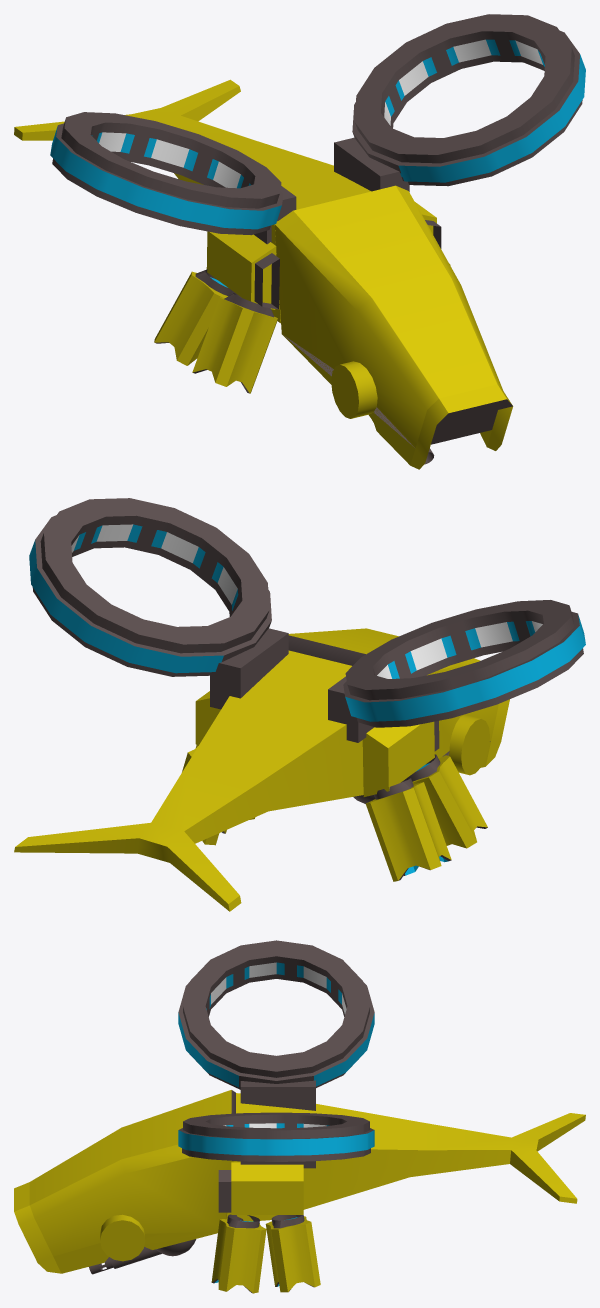
File: Drone.fbx
3 renders of one model, top to bottom at view 1: azimuth 30°, elevation 25°; view 2: azimuth 150°, elevation 25°; view 3: azimuth 270°, elevation 25°, orthographic. The views are drawn at different scales.
Parts seen in each view (by area): view 1: Cube, Tube_1, Tube, Cube_1, Cylinder_3, Cube_3, Cylinder_2, Cube_2_2, Cylinder_2_2; view 2: Cube_1, Tube_1, Tube, Cylinder_2, Cube, Cube_3, Cylinder_3, Cube_2_2, Cylinder_2_2, Cube_1_2, Cube_2; view 3: Cube, Tube, Cube_1, Tube_1, Cube_2, Cylinder, Cylinder_1, Cube_1_2, Cylinder_2_2, Cylinder_1_2.
Part boxes in pixels (box(x1,y1,x2,y2)): Cube: box(275, 185, 513, 469); Tube_1: box(352, 14, 585, 186); Tube: box(50, 112, 283, 235); Cube_1: box(14, 79, 370, 323); Cylinder_3: box(192, 293, 277, 393); Cube_3: box(206, 231, 279, 309); Cylinder_2: box(154, 269, 235, 365); Cube_2_2: box(334, 137, 409, 191); Cylinder_2_2: box(331, 361, 377, 418); Cube_1: box(14, 650, 363, 911); Tube_1: box(29, 498, 271, 676); Tube: box(343, 600, 585, 727); Cylinder_2: box(366, 778, 451, 881); Cube: box(288, 628, 509, 767); Cube_3: box(362, 721, 439, 796); Cylinder_3: box(406, 754, 487, 848); Cube_2_2: box(210, 628, 288, 709); Cylinder_2_2: box(449, 714, 489, 775); Cube_1_2: box(328, 676, 374, 742); Cube_2: box(195, 691, 220, 745); Cube: box(14, 1090, 235, 1273); Tube: box(178, 940, 374, 1089); Cube_1: box(226, 1093, 585, 1221); Tube_1: box(178, 1112, 374, 1161); Cube_2: box(218, 1162, 303, 1214); Cylinder: box(211, 1214, 266, 1293); Cylinder_1: box(265, 1215, 320, 1292); Cube_1_2: box(240, 1080, 315, 1110); Cylinder_2_2: box(100, 1214, 145, 1261); Cylinder_1_2: box(89, 1247, 162, 1274).
Size of the model in its own units: 1406 by 787 by 1694.
